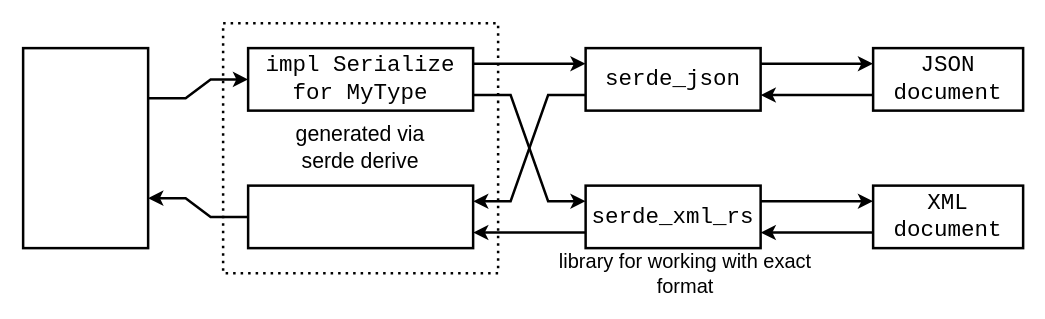
Some shapes in this 1045 by 319 pixel diagram are drawn without their labels. The centre of each missing label's shape, as x and y in pixels:
"impl Deserialize for MyType" goes at pixel 360 216.
"object of type MyType" goes at pixel 85 147.
